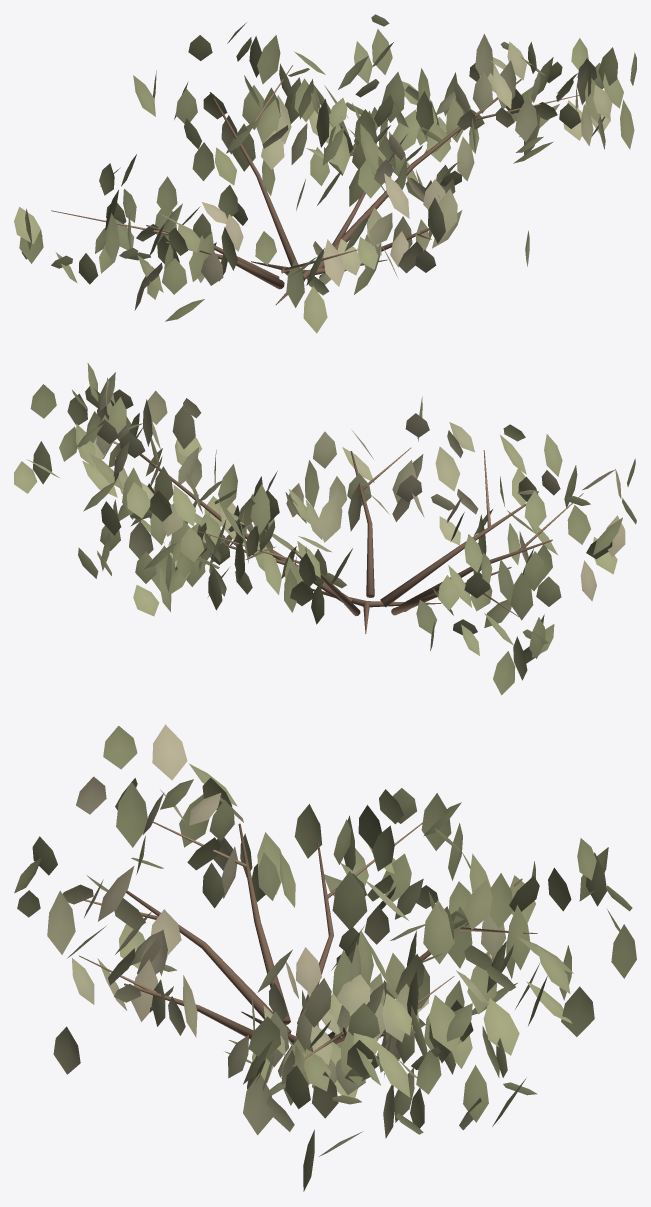
Rendered from bush_3d_04.glb.
3 renders of one model, top to bottom at view 1: azimuth 30°, elevation 25°; view 2: azimuth 150°, elevation 25°; view 3: azimuth 270°, elevation 25°, orthographic. The views are drawn at different scales.
Parts seen in each view (by area): view 1: bush_3d_04_foliage, bush_3d_04_wood; view 2: bush_3d_04_foliage, bush_3d_04_wood; view 3: bush_3d_04_foliage, bush_3d_04_wood.
Part boxes in pixels (box(x1,y1,x2,y2)): bush_3d_04_foliage: box(14, 14, 636, 333); bush_3d_04_wood: box(51, 65, 579, 304); bush_3d_04_foliage: box(14, 363, 636, 695); bush_3d_04_wood: box(118, 437, 583, 633); bush_3d_04_foliage: box(14, 724, 636, 1191); bush_3d_04_wood: box(79, 815, 537, 1066).
Size of the model in its own units: 2.82 by 0.8427 by 2.05.
